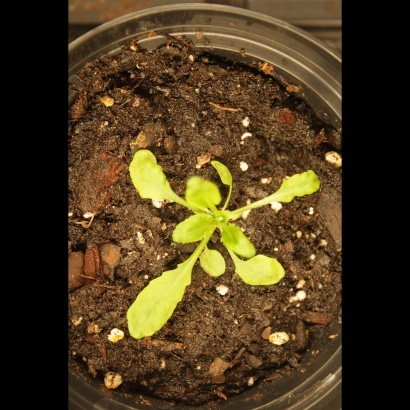leaf: (123, 253, 195, 348), (128, 144, 177, 207), (235, 249, 290, 292), (270, 168, 328, 206), (167, 210, 222, 244), (182, 175, 225, 213), (221, 220, 260, 261), (209, 154, 242, 189), (198, 248, 228, 278)
